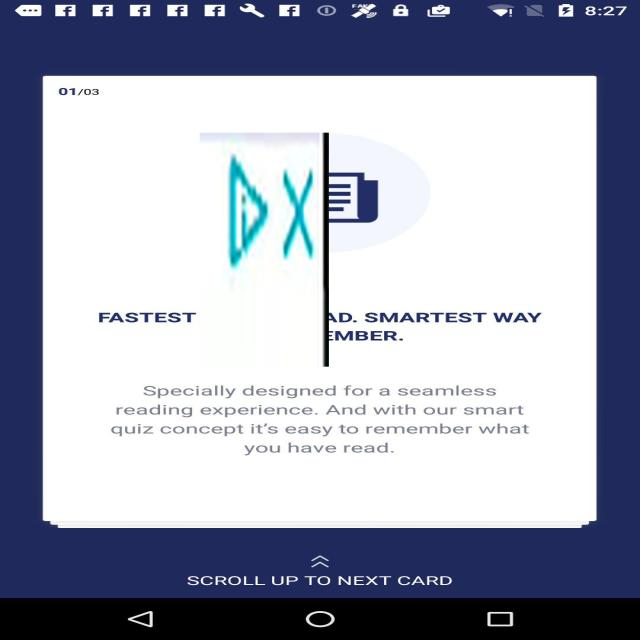sneaking: (200, 132, 329, 366)
